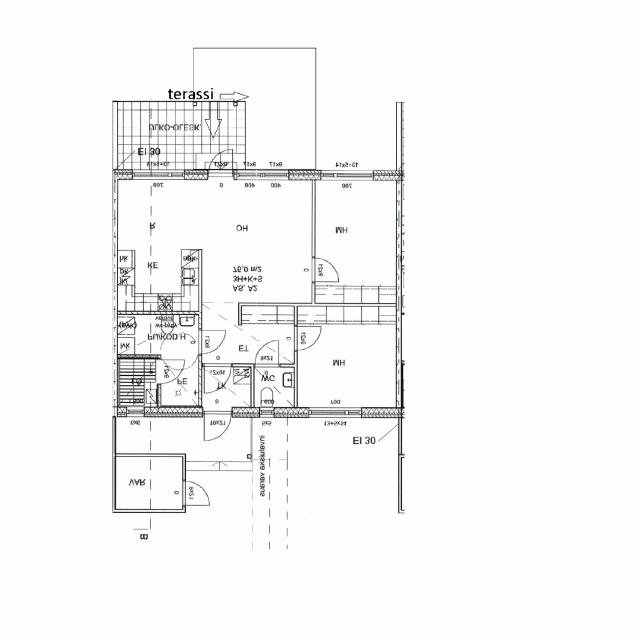door: (205, 407, 231, 443), (208, 145, 232, 180), (204, 363, 230, 393), (156, 360, 185, 384), (182, 481, 210, 505), (255, 339, 279, 366), (312, 258, 339, 282), (295, 326, 321, 350), (199, 330, 225, 353)
